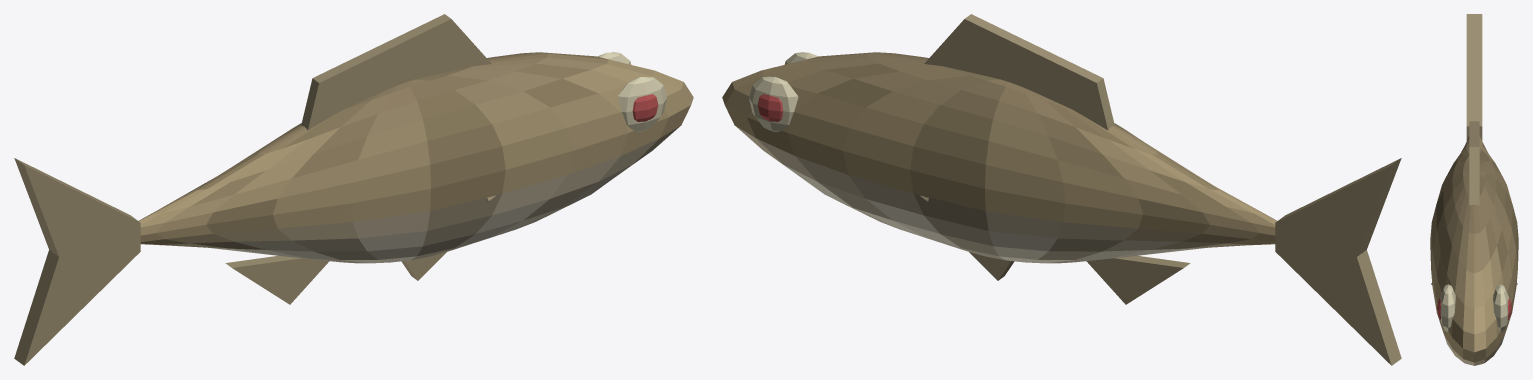
File: SmallmouthBass.glb
3 views of the same model, side by side, from view 1: azimuth 30°, elevation 25°; view 2: azimuth 150°, elevation 25°; view 3: azimuth 270°, elevation 25° (orthographic). The views are drawn at different scales.
Visible parts, largest first — view 1: SmallmouthBass; view 2: SmallmouthBass; view 3: SmallmouthBass.
Part boxes in pixels (x1,y1,x2,y2): SmallmouthBass: [14, 14, 693, 365]; SmallmouthBass: [722, 14, 1401, 365]; SmallmouthBass: [1430, 14, 1518, 365].
Bounding box in the file's own units: 3.38 × 1.22 × 0.4882.
